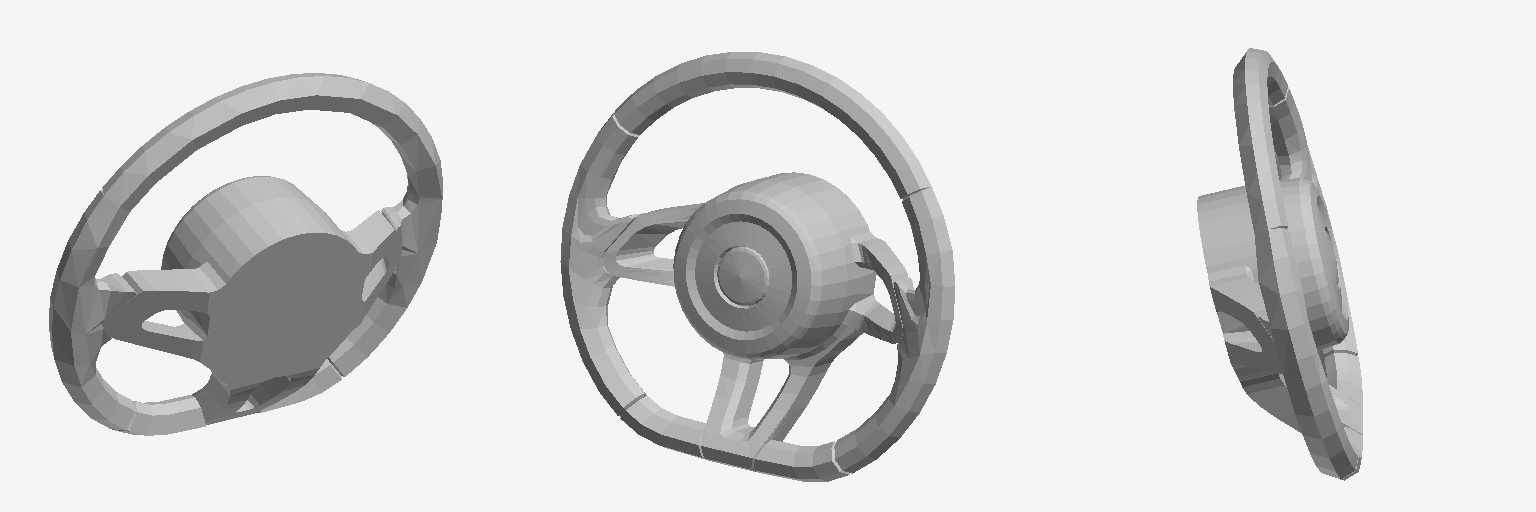
The model's file is steering_wheel.obj.
3 renders of one model, left to right at view 1: azimuth 30°, elevation 25°; view 2: azimuth 150°, elevation 25°; view 3: azimuth 270°, elevation 25°, orthographic.
Parts seen in each view (by area): view 1: Layer0_001; view 2: Layer0_001; view 3: Layer0_001.
Part boxes in pixels (x1,y1,x2,y2): Layer0_001: (49, 73, 442, 435); Layer0_001: (560, 52, 954, 481); Layer0_001: (1197, 48, 1362, 480).
Bounding box in the file's own units: 20.35 × 18.71 × 7.52.